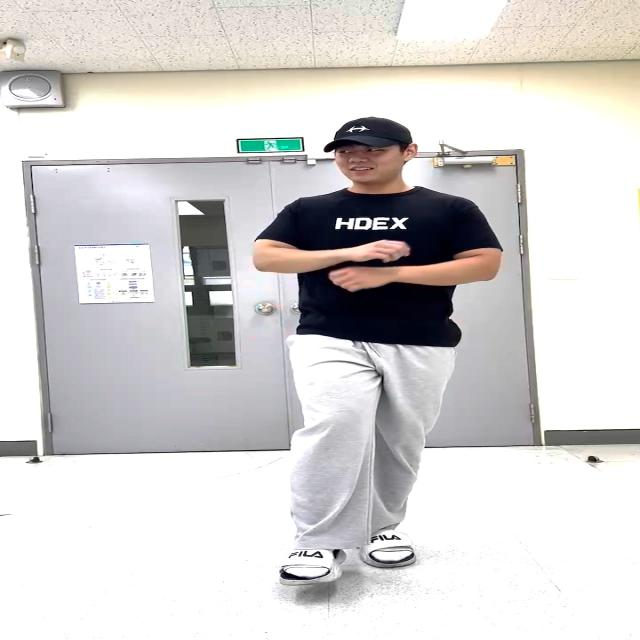leg: (289, 341, 367, 587), (382, 347, 428, 562)
